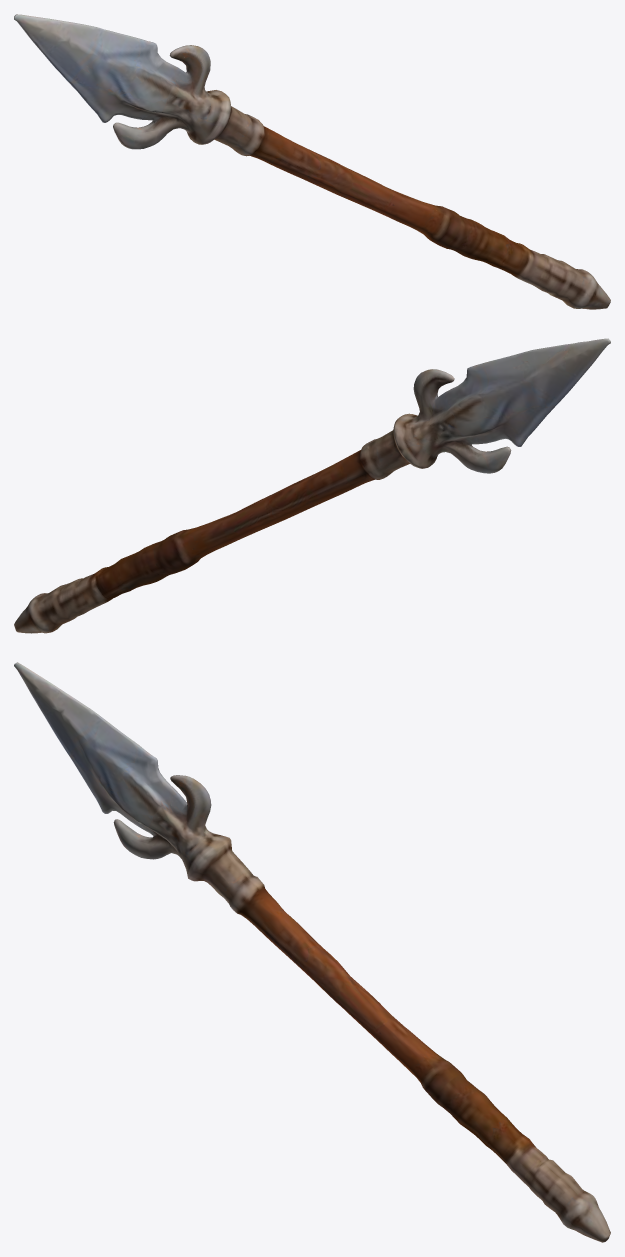
File: weap_spear.glb
The picture shows the model from 3 angles, top to bottom: view 1: azimuth 30°, elevation 25°; view 2: azimuth 150°, elevation 25°; view 3: azimuth 330°, elevation 25°; orthographic projection.
Visible parts, largest first — view 1: tripo_node_bc14030f-eb99-4032-93fd-c43346c6523b; view 2: tripo_node_bc14030f-eb99-4032-93fd-c43346c6523b; view 3: tripo_node_bc14030f-eb99-4032-93fd-c43346c6523b.
Boxes of the visible parts, bbox=[...] form: tripo_node_bc14030f-eb99-4032-93fd-c43346c6523b: bbox=[14, 14, 610, 309]; tripo_node_bc14030f-eb99-4032-93fd-c43346c6523b: bbox=[14, 338, 610, 633]; tripo_node_bc14030f-eb99-4032-93fd-c43346c6523b: bbox=[14, 662, 610, 1242].
Size of the model in its own units: 1.71 by 1.2 by 0.1327.
1 material, 1 textured.
